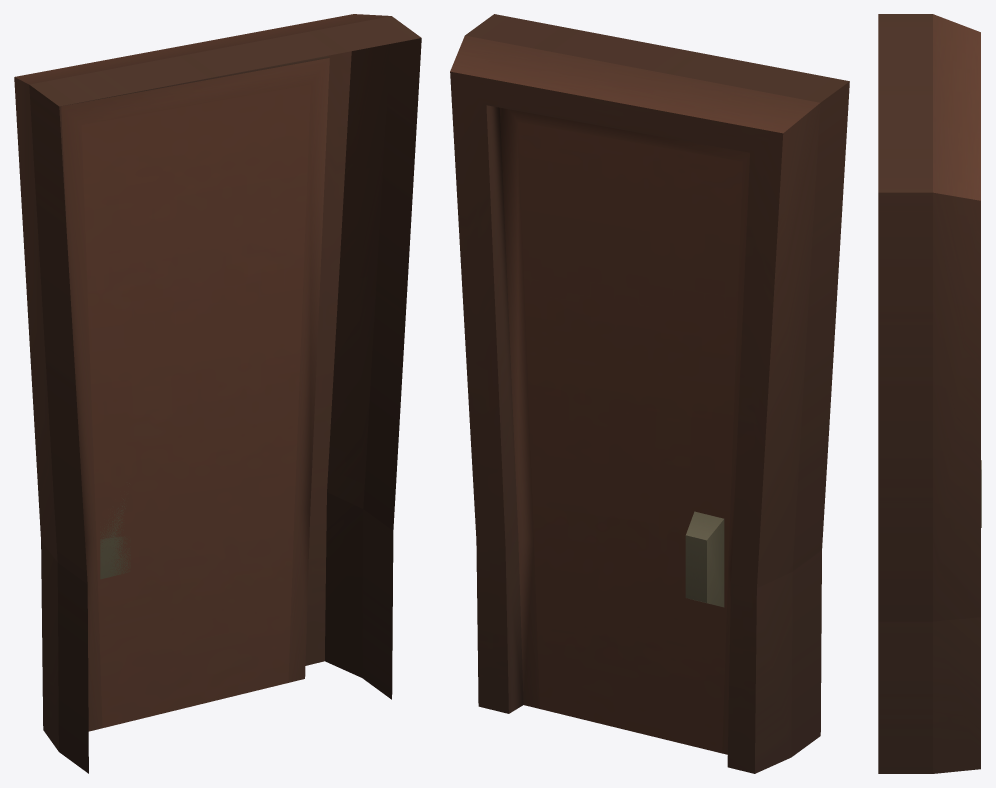
File: SM_BasmentDoorClosed.fbx
3 renders of one model, left to right at view 1: azimuth 30°, elevation 25°; view 2: azimuth 150°, elevation 25°; view 3: azimuth 270°, elevation 25°, orthographic. The views are drawn at different scales.
Parts seen in each view (by area): view 1: SM_BasmentDoorClosed; view 2: SM_BasmentDoorClosed; view 3: SM_BasmentDoorClosed.
Part boxes in pixels (x1,y1,x2,y2): SM_BasmentDoorClosed: (14, 14, 421, 773); SM_BasmentDoorClosed: (450, 14, 849, 773); SM_BasmentDoorClosed: (878, 14, 981, 773).
Size of the model in its own units: 156 by 42.36 by 277.
